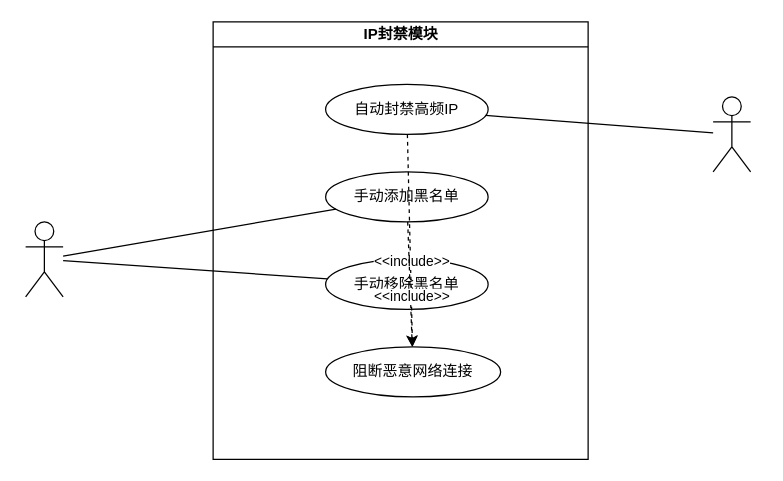
The diagram is 783 pixels wide and 481 high, and some of its shapes have lost their labels. Each missing label, with the centre of its shape:
"分析引擎" goes at point (731, 134).
"管理员" goes at point (43, 259).
